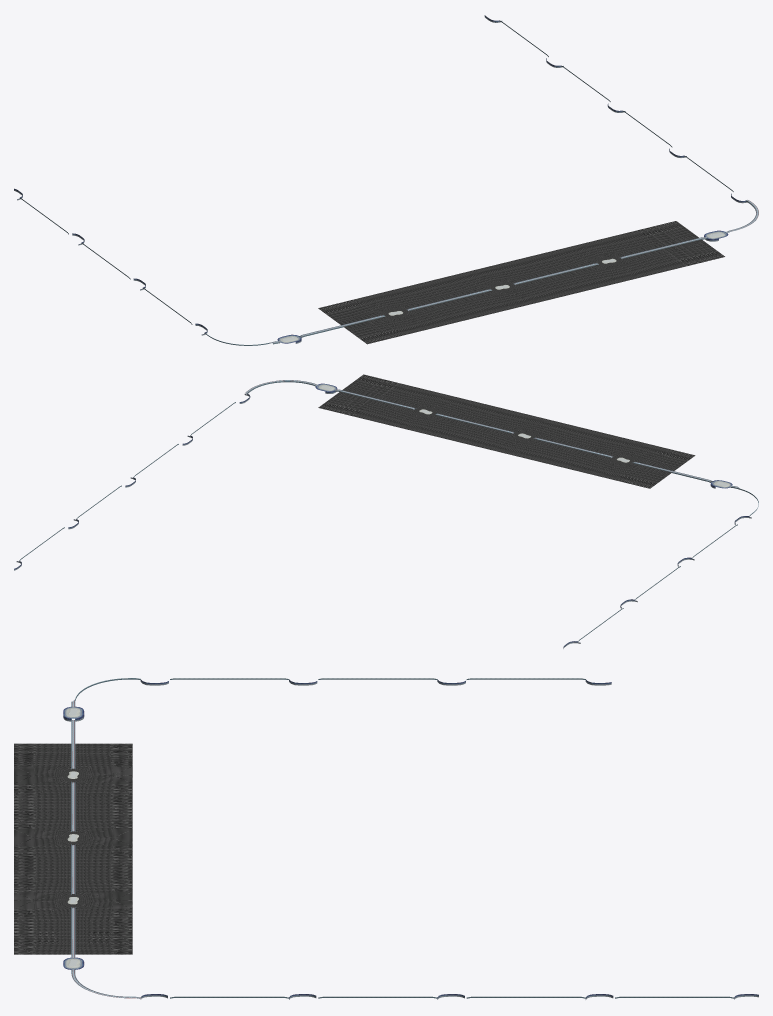
File: Egg_treat8.obj
3 renders of one model, top to bottom at view 1: azimuth 30°, elevation 25°; view 2: azimuth 150°, elevation 25°; view 3: azimuth 270°, elevation 25°, orthographic. The views are drawn at different scales.
Parts seen in each view (by area): view 1: obj2, Object_2, obj3; view 2: obj2, Object_2, obj3; view 3: obj2, Object_2, obj3.
Part boxes in pixels (x1,y1,x2,y2): obj2: (318,221,724,344); Object_2: (14,15,758,345); obj3: (302,237,706,335); obj2: (318,374,695,488); Object_2: (14,380,758,648); obj3: (335,389,710,481); obj2: (14,743,132,954); Object_2: (63,678,758,999); obj3: (67,720,78,957).
Size of the model in its own units: 25650 by 130 by 25101.
